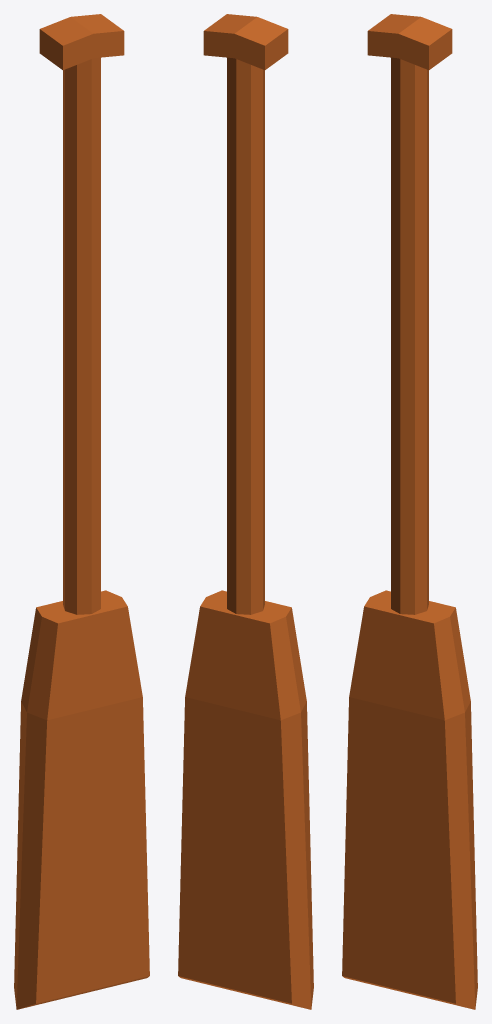
Rendered from Remo.fbx.
The picture shows the model from 3 angles, left to right: view 1: azimuth 30°, elevation 25°; view 2: azimuth 150°, elevation 25°; view 3: azimuth 330°, elevation 25°; orthographic projection.
Visible parts, largest first — view 1: Remo; view 2: Remo; view 3: Remo.
Boxes of the visible parts, bbox=[...] form: Remo: bbox=[14, 14, 149, 1009]; Remo: bbox=[178, 14, 313, 1009]; Remo: bbox=[342, 14, 477, 1009].
Size of the model in its own units: 36.94 by 261 by 12.76.
